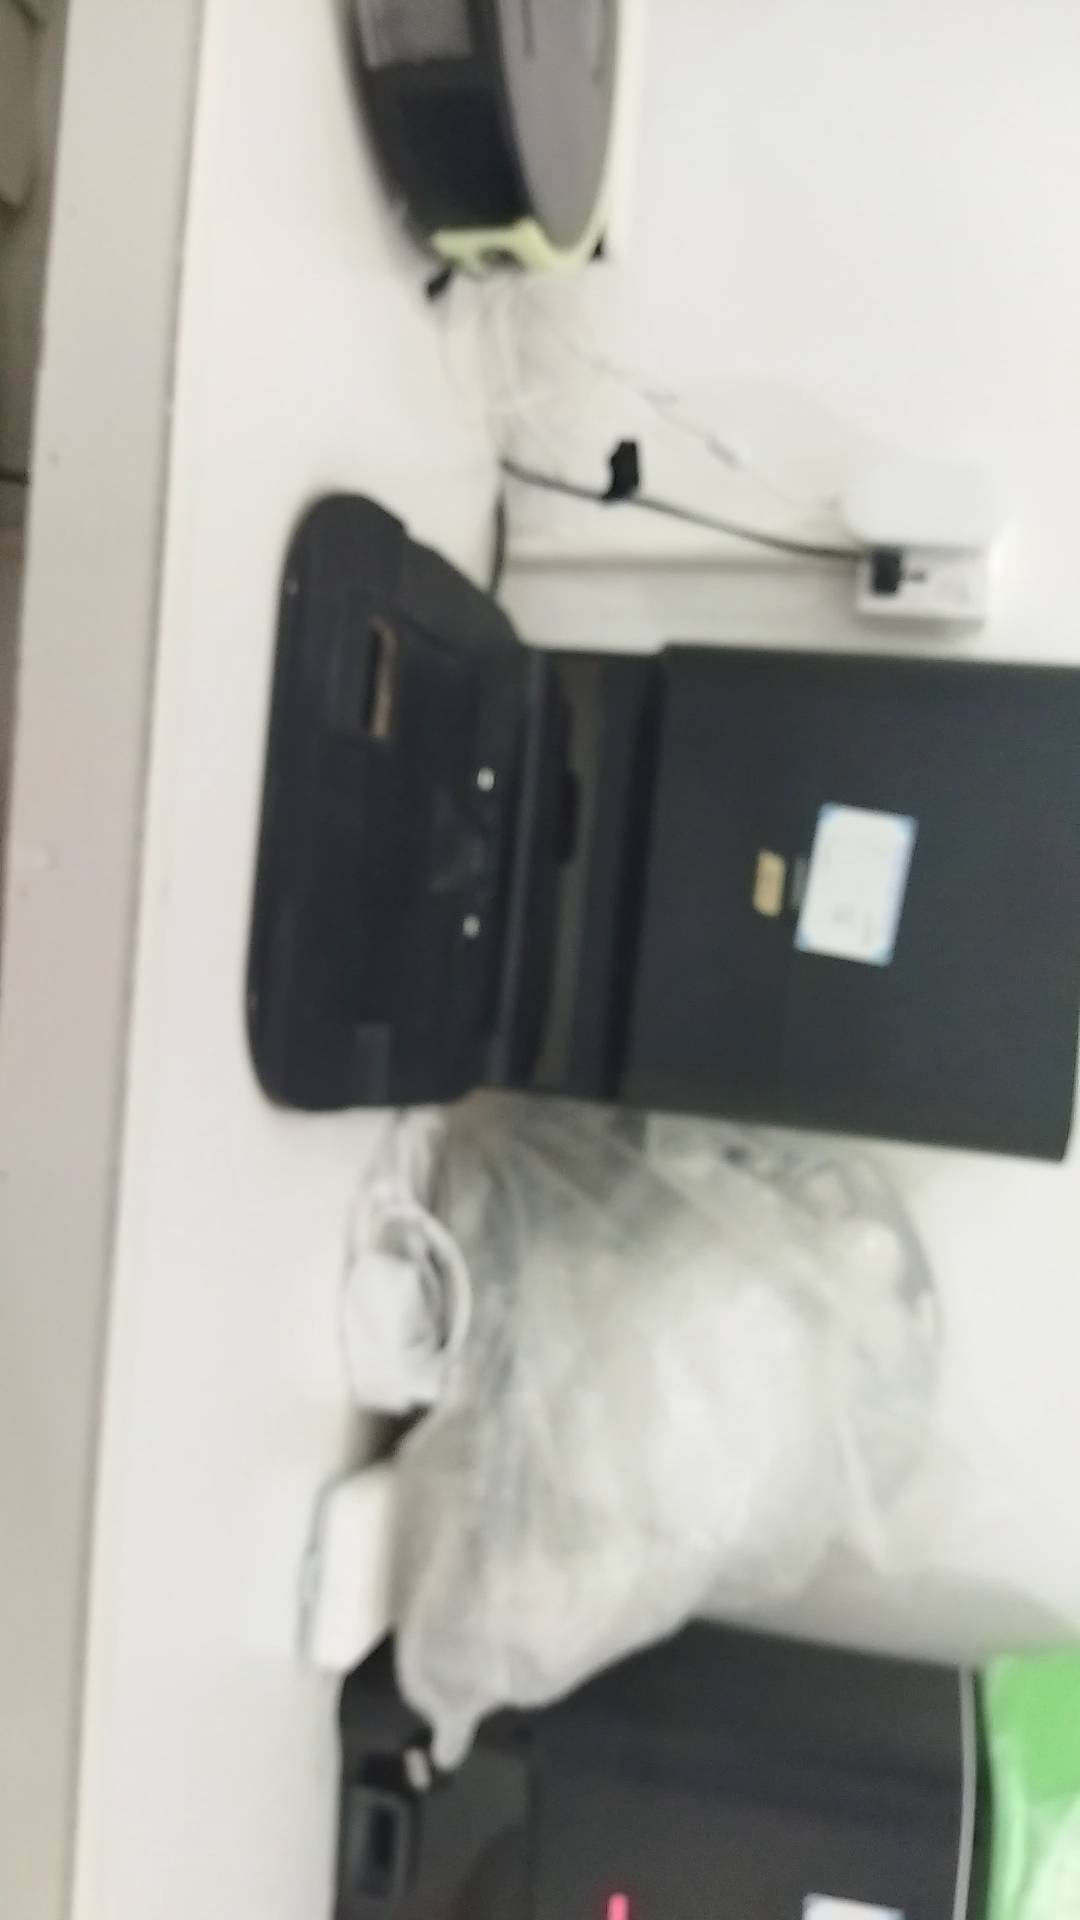dust collecting barrel: (247, 492, 1080, 1172)
